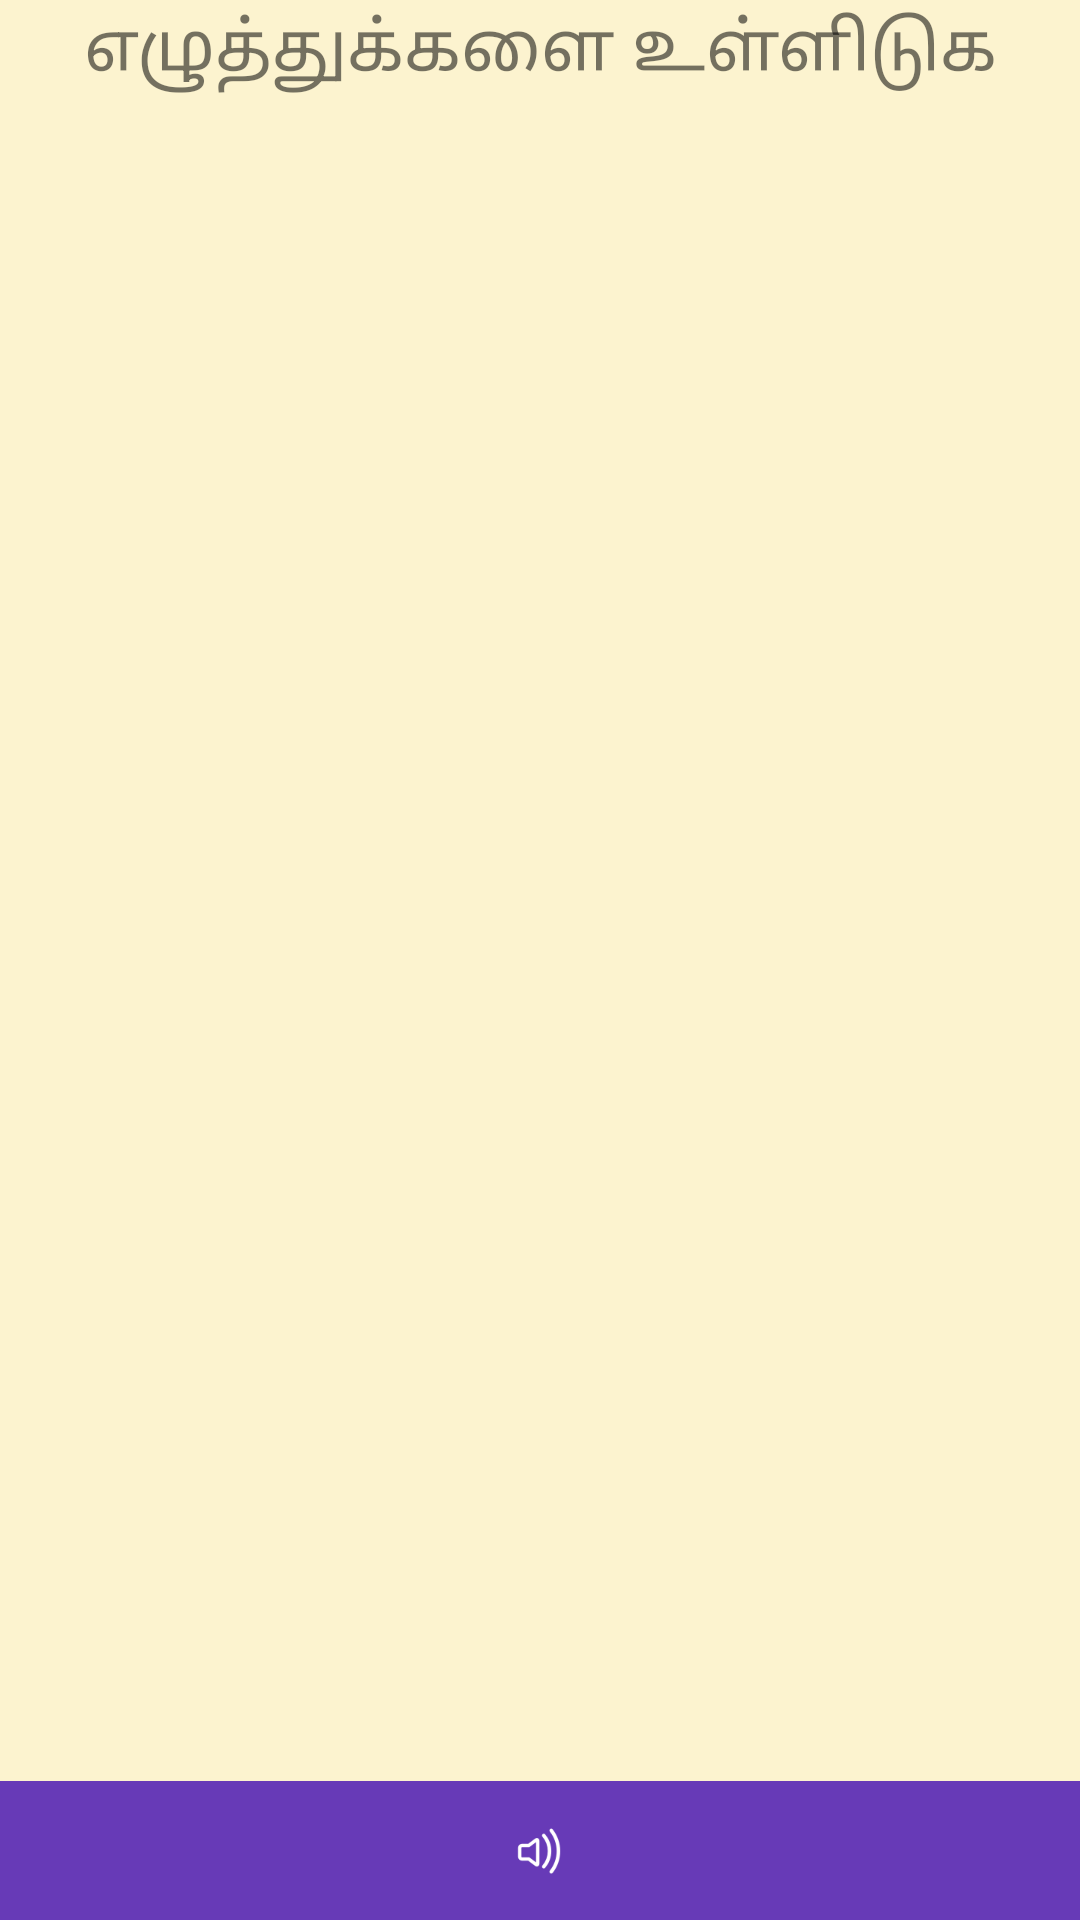

Screen size 1080x1920. Icon name, then its box in pixels as box=[x1, y1, x2, y2]:
voice: box=[517, 1828, 561, 1874]
